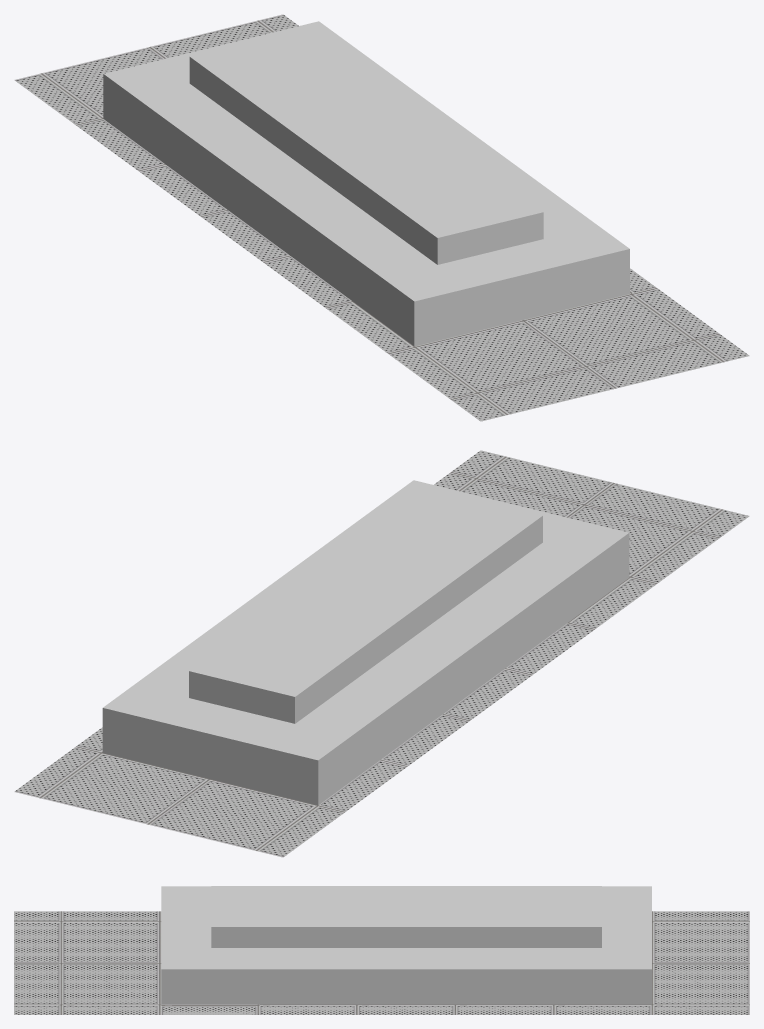
The model's file is Wall6Ceilingg.fbx.
3 renders of one model, top to bottom at view 1: azimuth 30°, elevation 25°; view 2: azimuth 150°, elevation 25°; view 3: azimuth 270°, elevation 25°, orthographic. The views are drawn at different scales.
Visible parts, largest first — view 1: MiniRoomCeiling.002; view 2: MiniRoomCeiling.002; view 3: MiniRoomCeiling.002.
Part boxes in pixels (x1=…): MiniRoomCeiling.002: x1=14, y1=14, x2=749, y2=421; MiniRoomCeiling.002: x1=14, y1=450, x2=749, y2=857; MiniRoomCeiling.002: x1=14, y1=886, x2=749, y2=1014.
Size of the model in its own units: 796 by 203 by 2389.
2 materials, 1 textured.
